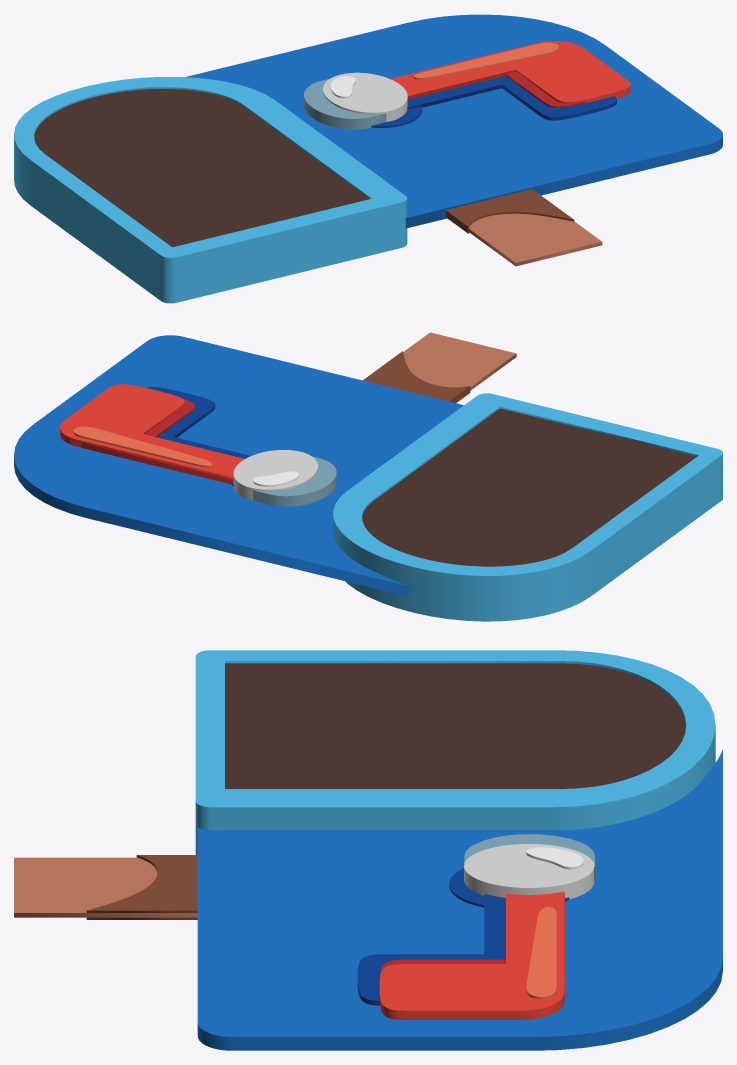
File: emoji_u1f4ed.glb
3 renders of one model, top to bottom at view 1: azimuth 30°, elevation 25°; view 2: azimuth 150°, elevation 25°; view 3: azimuth 270°, elevation 25°, orthographic. The views are drawn at different scales.
Visible parts, largest first — view 1: emoji_u1f4ed; view 2: emoji_u1f4ed; view 3: emoji_u1f4ed.
Boxes of the visible parts, <box> form: emoji_u1f4ed: <box>14,14,722,303</box>; emoji_u1f4ed: <box>14,332,722,621</box>; emoji_u1f4ed: <box>14,650,722,1050</box>.
Bounding box in the file's own units: 0.0338 × 0.0026 × 0.0279.
